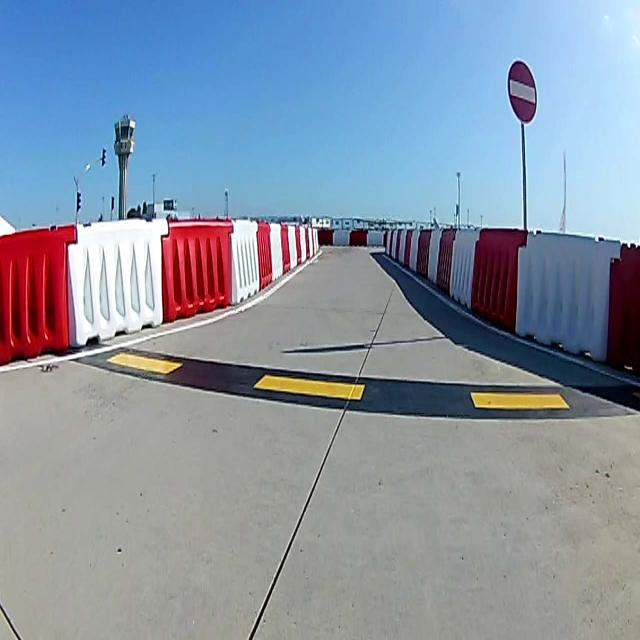girisyok: (506, 57, 536, 123)
